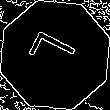L_SE: (26, 29, 84, 81)
